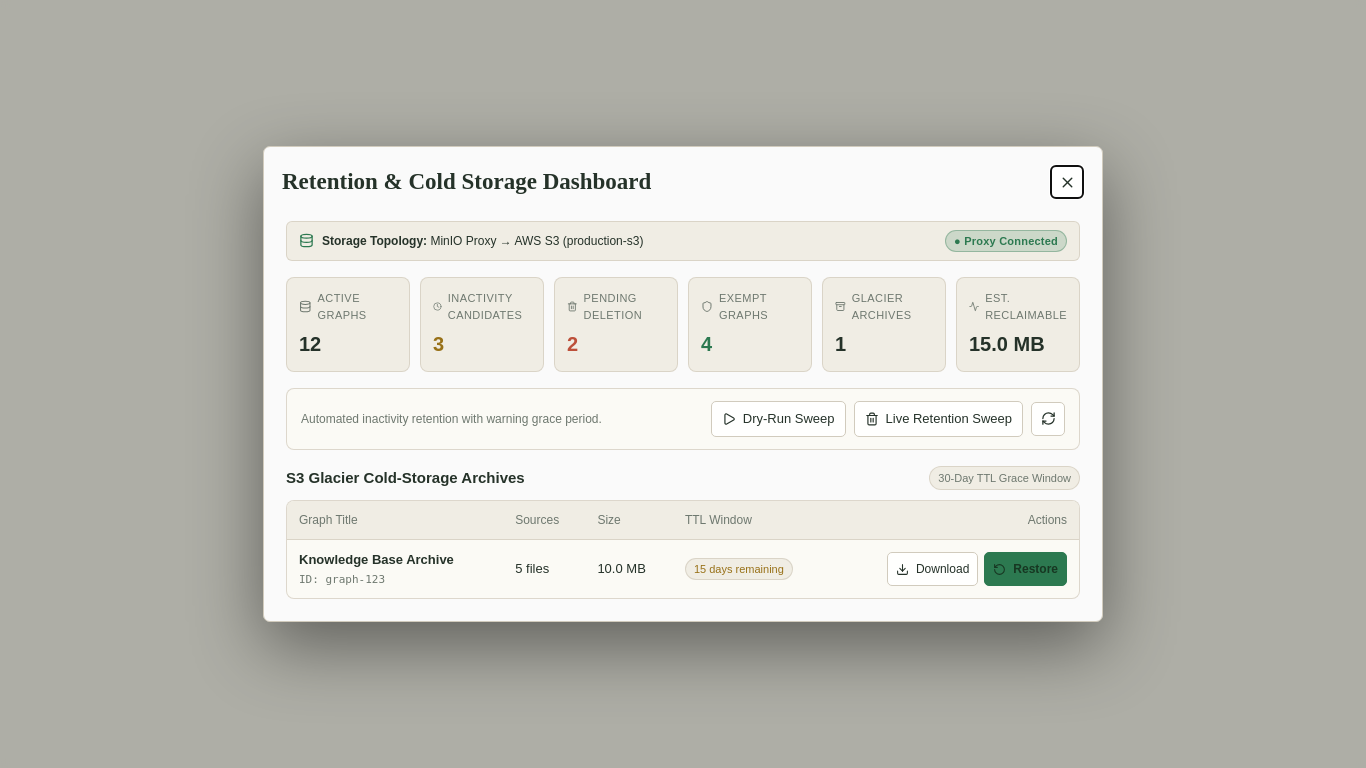
Scenario: RetentionDashboardDialog › restores graph from archive on restore button click
Expected: the text "Knowledge Base Archive" is shown, [299,552,454,567]
Click the button "Restore": point(1026, 569) [984,552,1067,586]
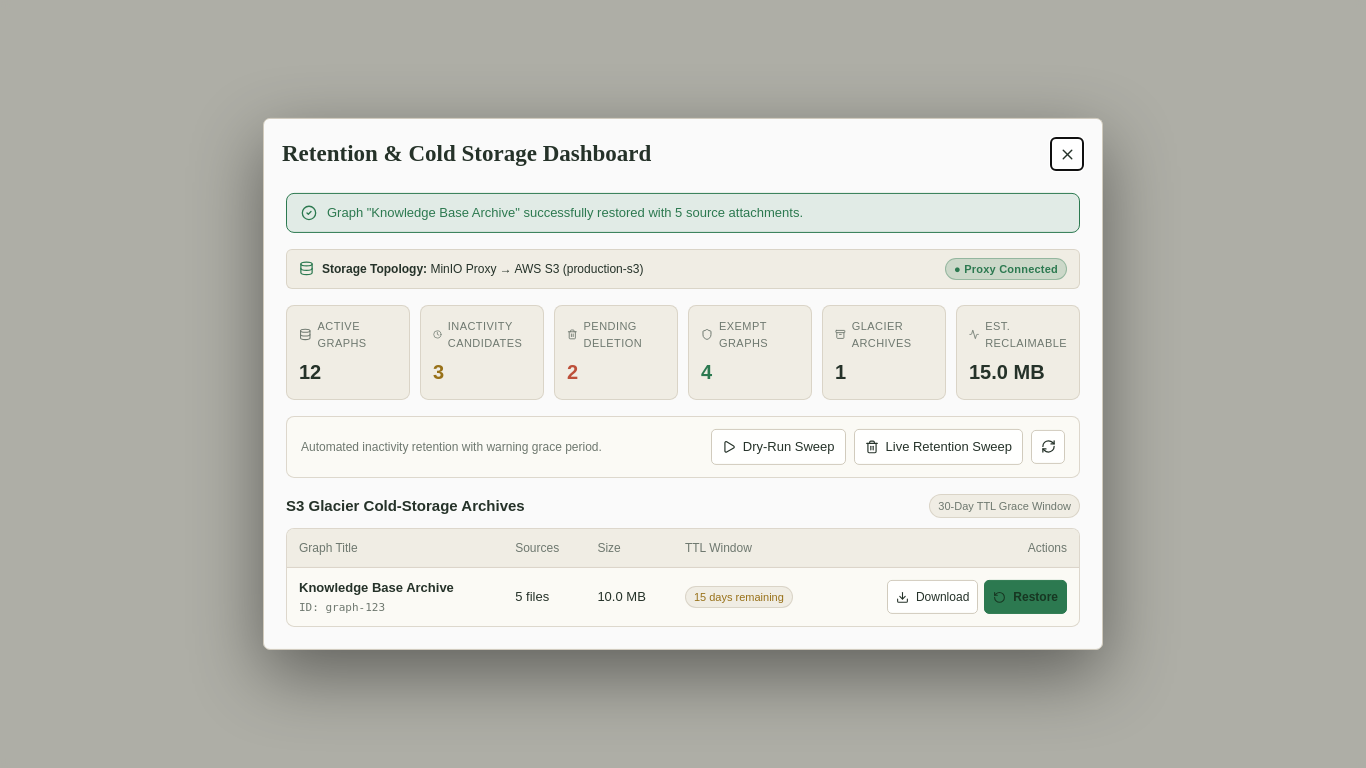
Expected: the text "Graph \"Knowledge Base Archive\" successfully restored with 5 source attachments." is shown, [327,203,803,222]
